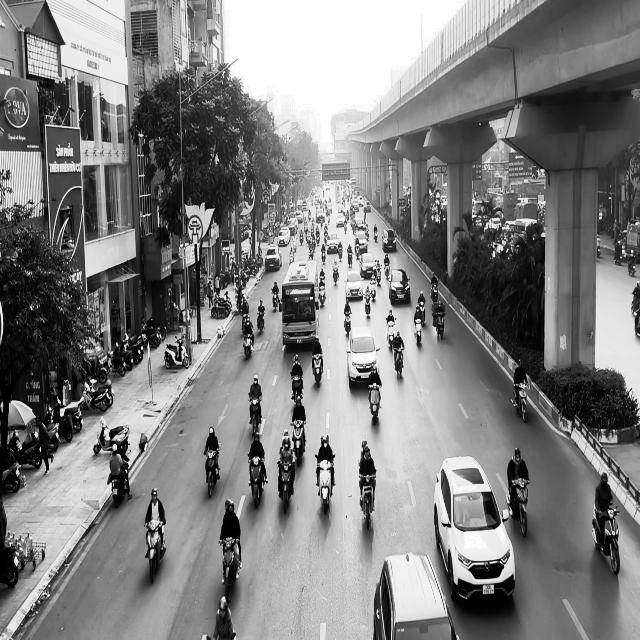car: (434, 455, 516, 602), (372, 550, 460, 640), (346, 326, 380, 386), (388, 268, 411, 304), (344, 270, 363, 300), (382, 229, 396, 252)
motorbike: (591, 506, 620, 575), (504, 478, 530, 537), (219, 536, 241, 604), (144, 519, 166, 583), (315, 454, 335, 516), (108, 461, 130, 508), (358, 472, 376, 528), (277, 458, 295, 514), (203, 444, 221, 498), (247, 454, 265, 508), (290, 419, 306, 466), (511, 382, 528, 422), (248, 393, 262, 438), (368, 382, 381, 424), (311, 352, 323, 386), (290, 372, 303, 403), (393, 342, 404, 378), (434, 310, 445, 341), (243, 331, 254, 359), (386, 318, 395, 349), (413, 318, 422, 347), (257, 308, 265, 334), (363, 291, 371, 316), (344, 310, 351, 336), (318, 284, 325, 307), (332, 264, 339, 286)
